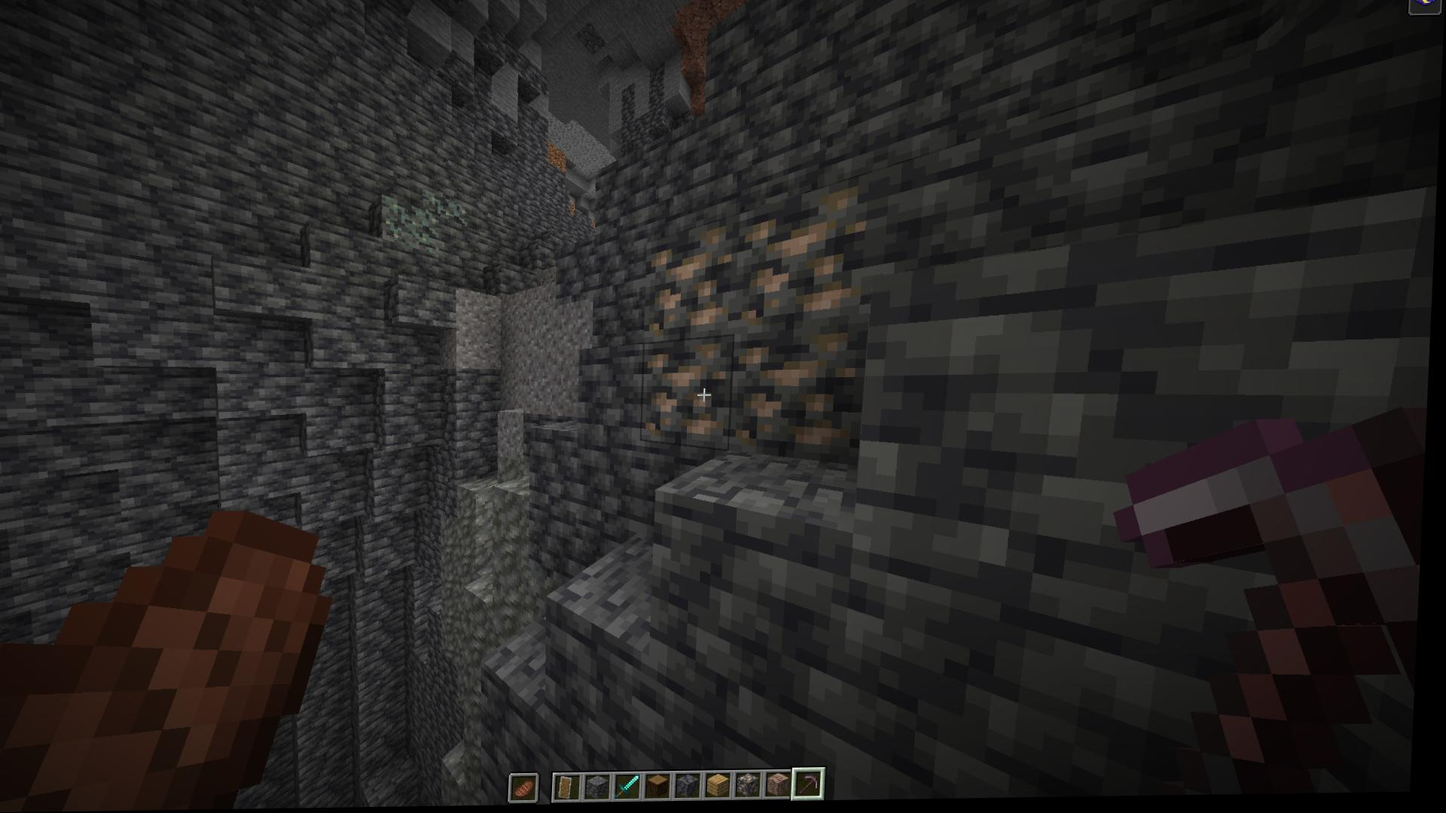iron ore: (733, 334, 883, 473), (740, 189, 875, 322), (643, 343, 751, 460), (648, 230, 742, 342)
